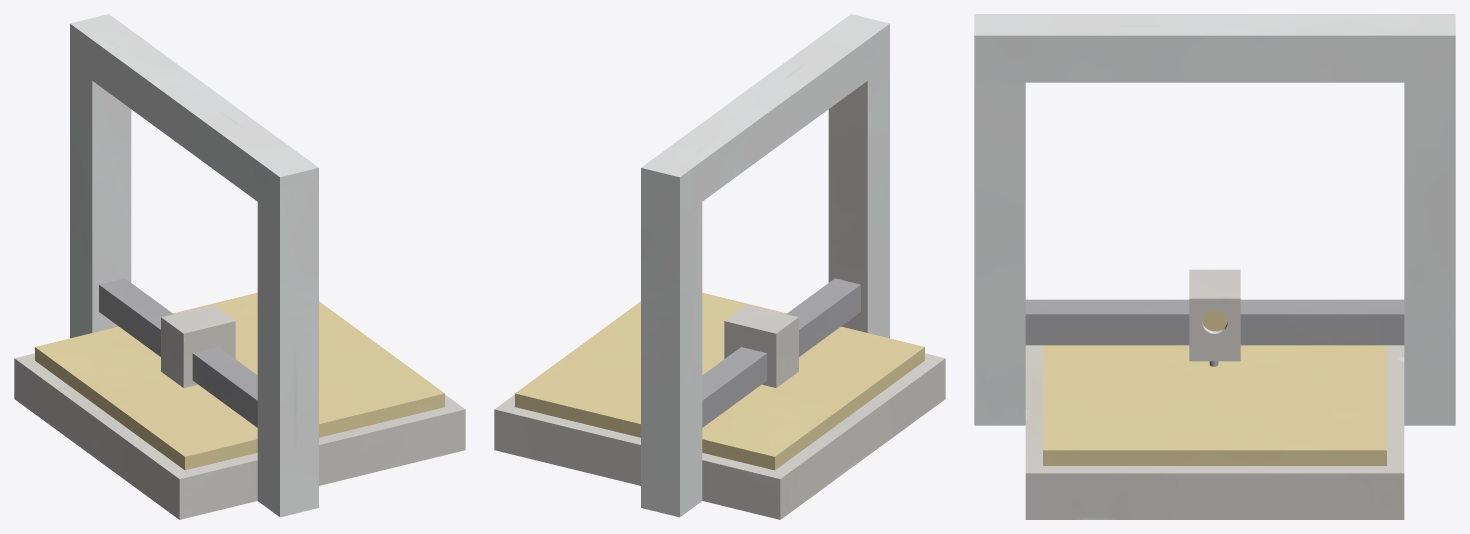
The model's file is portfolio-printer2.glb.
3 views of the same model, side by side, from view 1: azimuth 30°, elevation 25°; view 2: azimuth 150°, elevation 25°; view 3: azimuth 270°, elevation 25° (orthographic). The views are drawn at different scales.
Parts seen in each view (by area): view 1: 3D printer; view 2: 3D printer; view 3: 3D printer.
Part boxes in pixels (<box>): 3D printer: <box>14,14,465,519</box>; 3D printer: <box>494,14,945,519</box>; 3D printer: <box>974,14,1455,519</box>.
Size of the model in its own units: 2.2 by 2.5 by 2.8.
Materials: 1 (1 with a texture image).
